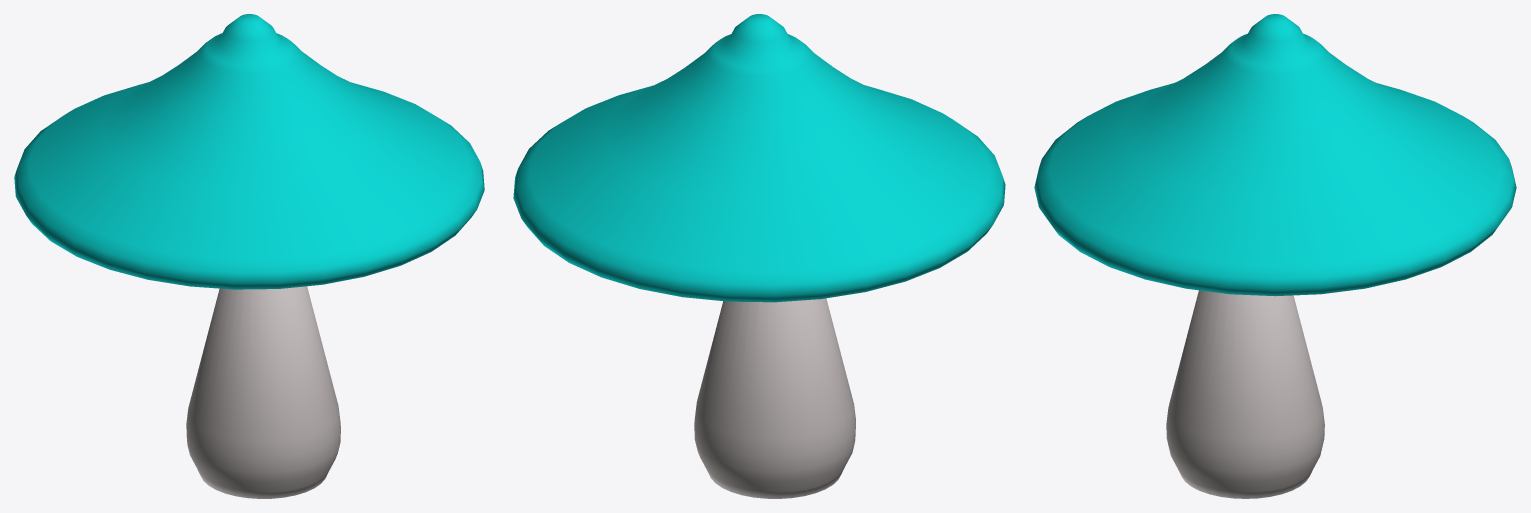
Rendered from mushrooms3.fbx.
The picture shows the model from 3 angles, left to right: view 1: azimuth 30°, elevation 25°; view 2: azimuth 150°, elevation 25°; view 3: azimuth 270°, elevation 25°; orthographic projection. The views are drawn at different scales.
Parts seen in each view (by area): view 1: Cylinder.001; view 2: Cylinder.001; view 3: Cylinder.001.
Boxes of the visible parts, x1,y1,x2,y2 form: Cylinder.001: (14,14,484,498); Cylinder.001: (513,14,1005,498); Cylinder.001: (1034,14,1516,498).
Bounding box in the file's own units: 466 × 483 × 466.
